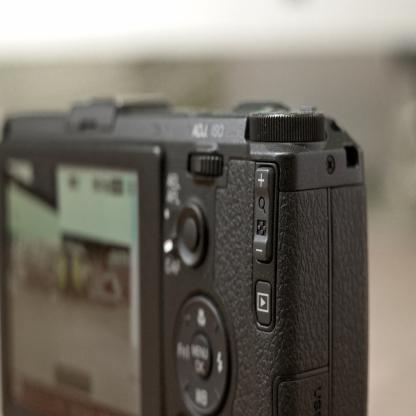Camera: (9, 99, 371, 409)
